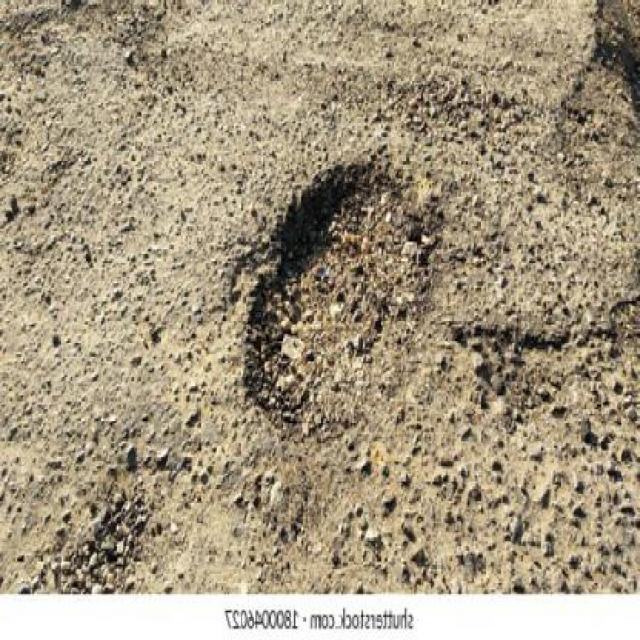pothole: (182, 140, 460, 452)
